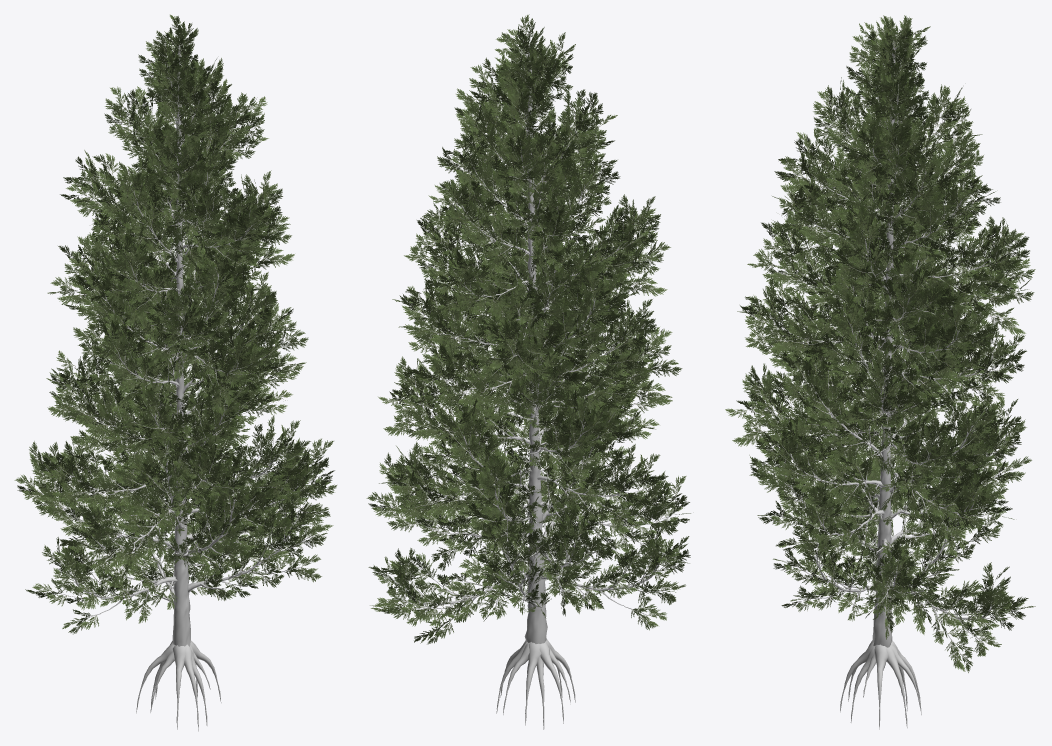
File: MESH_CL04_CalocedrusDecurrens_Y_LOD0.fbx
3 renders of one model, left to right at view 1: azimuth 30°, elevation 25°; view 2: azimuth 150°, elevation 25°; view 3: azimuth 270°, elevation 25°, orthographic. The views are drawn at different scales.
Visible parts, largest first — view 1: MI_LOD0_001, MI_LOD0; view 2: MI_LOD0_001, MI_LOD0; view 3: MI_LOD0_001, MI_LOD0.
Boxes of the visible parts, left/top/right/bottom form: MI_LOD0_001: left=14, top=14, right=336, bottom=634; MI_LOD0: left=35, top=38, right=318, bottom=731; MI_LOD0_001: left=366, top=14, right=690, bottom=644; MI_LOD0: left=387, top=39, right=676, bottom=729; MI_LOD0_001: left=725, top=15, right=1035, bottom=672; MI_LOD0: left=748, top=35, right=1016, bottom=729.
Size of the model in its own units: 744 by 1648 by 658.
